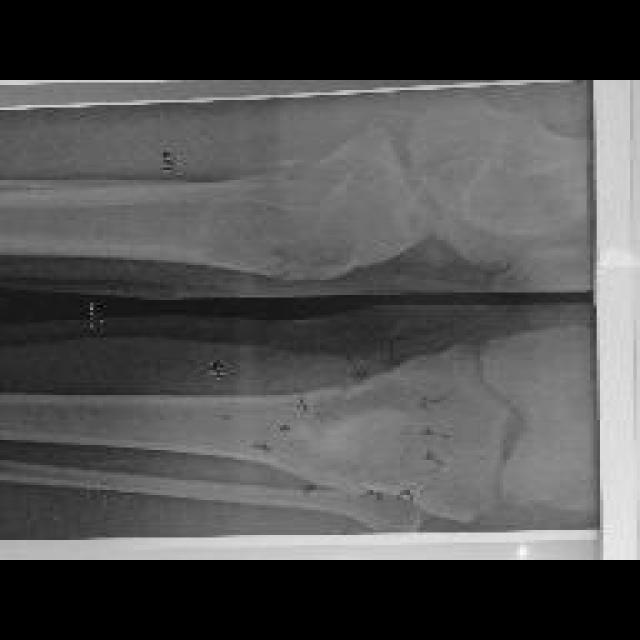bone-cancer: (265, 381, 453, 492), (169, 196, 377, 279)
